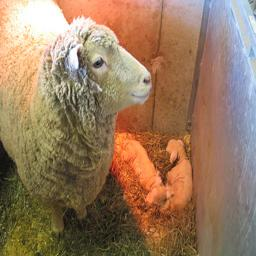sheep: (21, 47, 256, 256), (212, 206, 256, 256), (226, 203, 256, 256)
